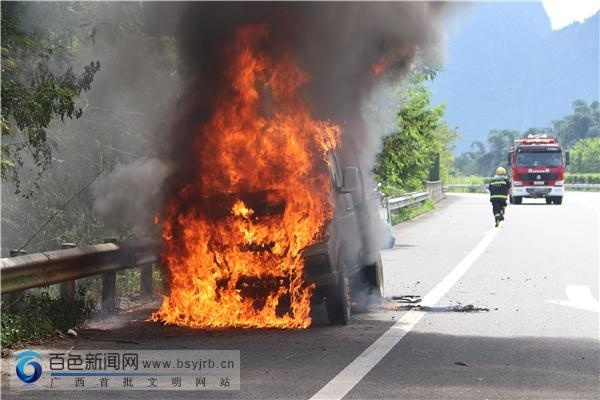fire: (153, 22, 341, 345)
